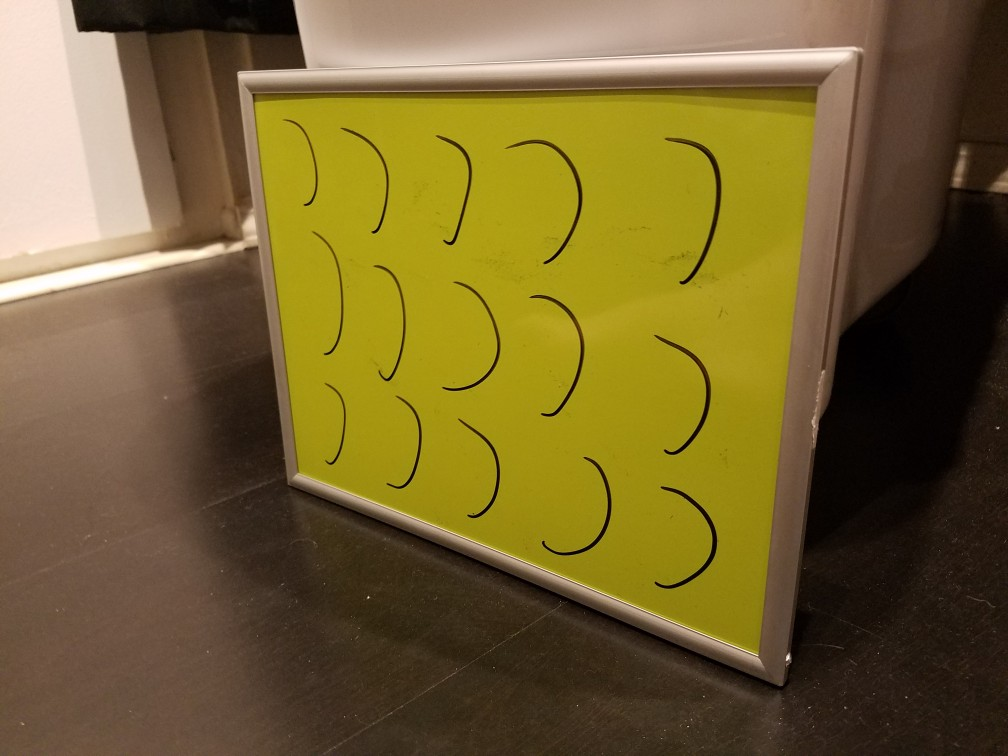): (652, 117, 733, 299), (503, 126, 588, 264), (521, 279, 597, 424), (644, 473, 728, 601), (641, 326, 717, 459), (429, 264, 501, 400), (536, 438, 611, 565), (421, 121, 488, 254), (354, 251, 420, 381), (293, 223, 354, 359), (441, 411, 506, 528), (339, 120, 393, 239), (376, 385, 432, 497), (273, 106, 324, 212), (305, 373, 359, 471)
